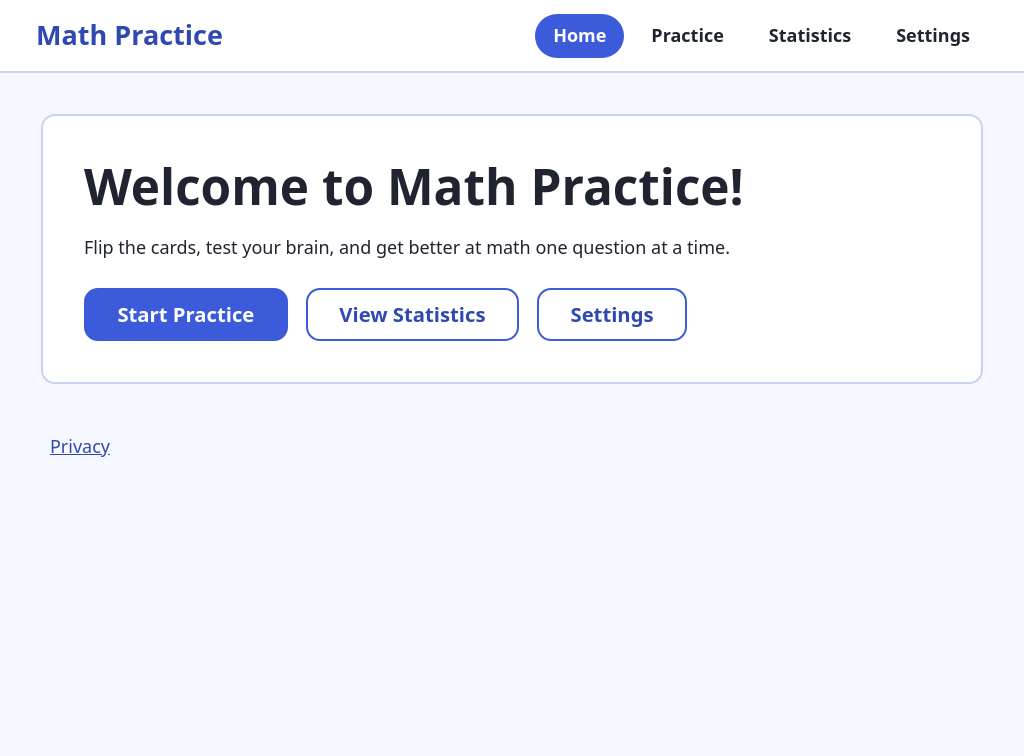
Test: App › opens on the home page, using the real browser router
Expected: the heading "Welcome to Math Practice!" is shown, [84, 152, 744, 220]
Note: Navigation goes through the browser's own address and history.
Click the link "Settings" in the row of "Home". click: point(933, 35)
box: [896, 23, 970, 47]
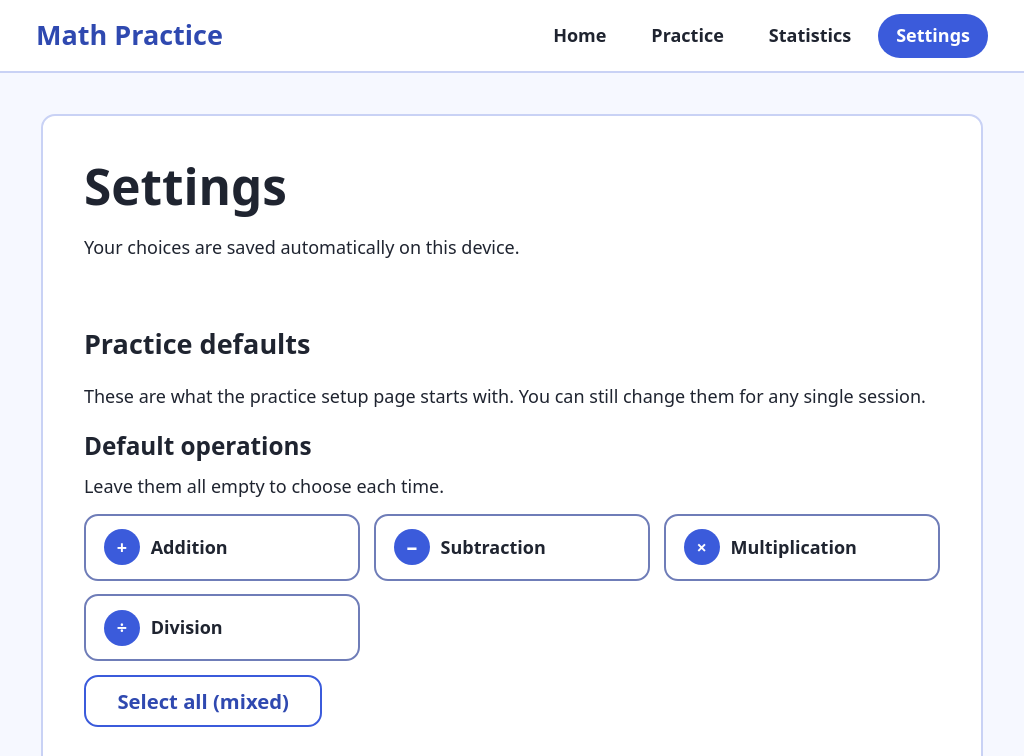
Expected: the heading "Settings" is shown, [84, 152, 287, 220]
